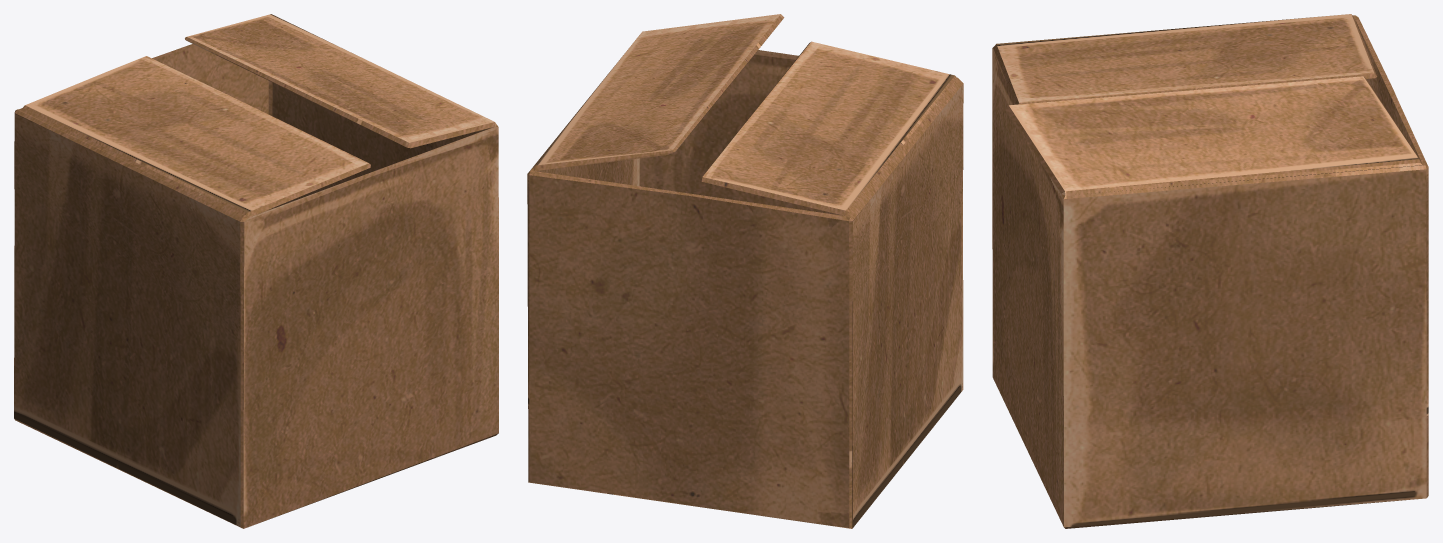
The model's file is коробочка открытая.glb.
The picture shows the model from 3 angles, left to right: view 1: azimuth 30°, elevation 25°; view 2: azimuth 150°, elevation 25°; view 3: azimuth 270°, elevation 25°; orthographic projection. The views are drawn at different scales.
Parts seen in each view (by area): view 1: коробочка открытая; view 2: коробочка открытая; view 3: коробочка открытая.
Boxes of the visible parts, x1=… form: коробочка открытая: x1=14, y1=14, x2=498, y2=528; коробочка открытая: x1=527, y1=14, x2=963, y2=528; коробочка открытая: x1=992, y1=14, x2=1428, y2=528.
Bounding box in the file's own units: 0.2496 × 0.2323 × 0.2523.
1 material, 1 textured.
